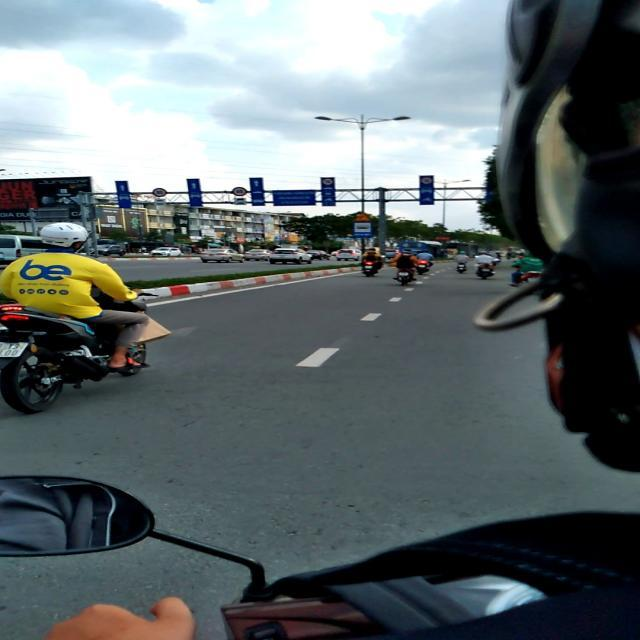Ben xe buyt: (353, 222, 372, 237)
Toc do toi da cho phep: (231, 186, 248, 196), (152, 188, 168, 198), (420, 177, 433, 184), (322, 178, 334, 185)
cho ngoat nguy hiem vong ben phai: (354, 212, 372, 222)
